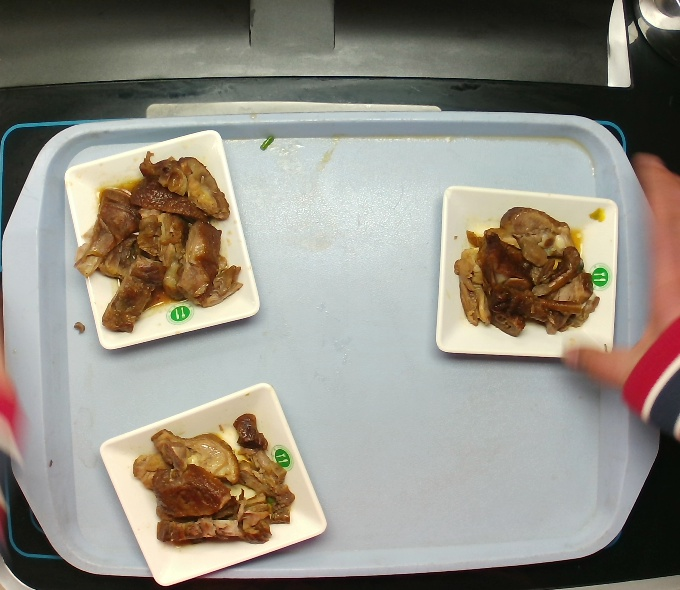wcq-YaRou: (70, 157, 252, 321), (134, 407, 294, 550), (456, 200, 606, 348)
